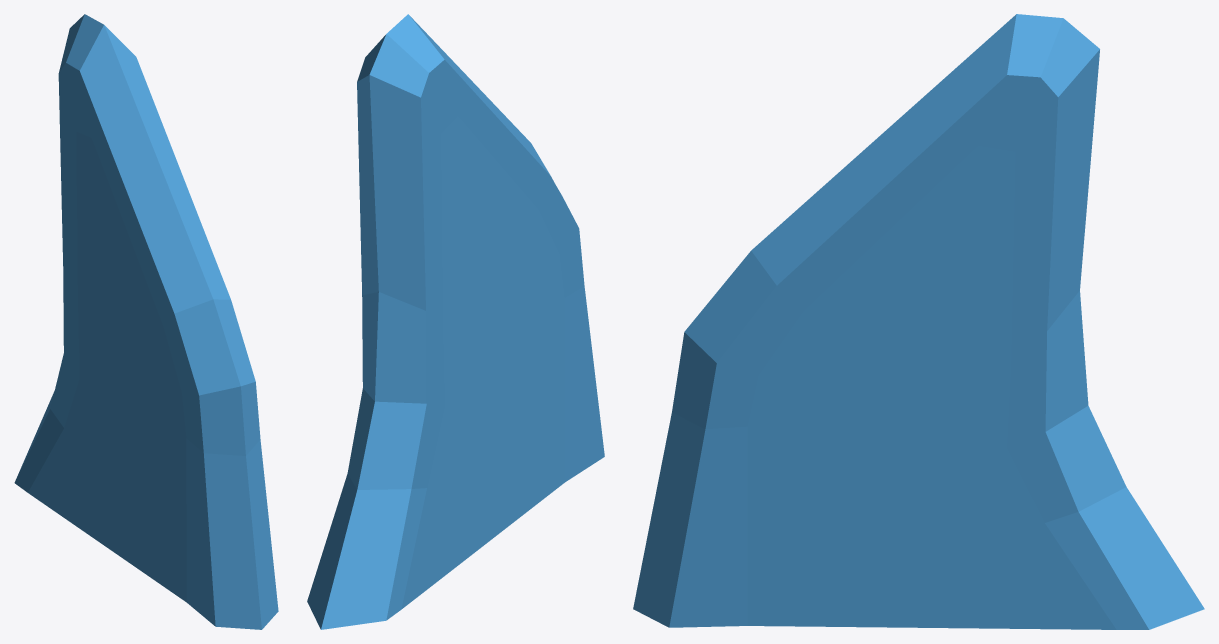
Rendered from shark fin.fbx.
The picture shows the model from 3 angles, left to right: view 1: azimuth 30°, elevation 25°; view 2: azimuth 150°, elevation 25°; view 3: azimuth 270°, elevation 25°; orthographic projection. The views are drawn at different scales.
Visible parts, largest first — view 1: Cube; view 2: Cube; view 3: Cube.
Part boxes in pixels (bbox=[...]): Cube: bbox=[14, 14, 278, 629]; Cube: bbox=[307, 14, 604, 629]; Cube: bbox=[633, 14, 1204, 629].
Size of the model in its own units: 68.57 by 457 by 398.
